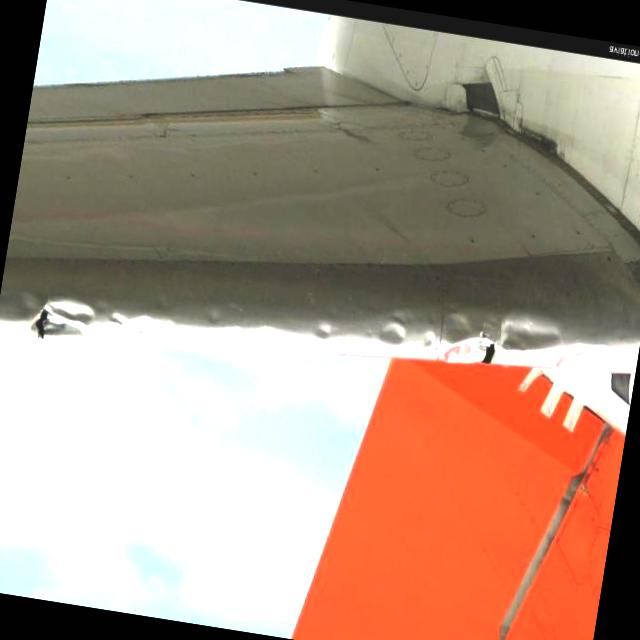dent: (25, 234, 617, 426)
